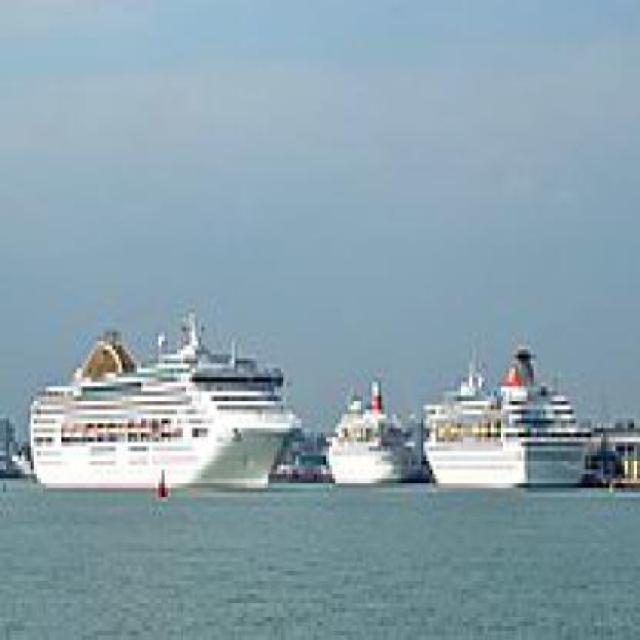cruise: (19, 300, 315, 513), (419, 333, 617, 517), (320, 365, 425, 494)
